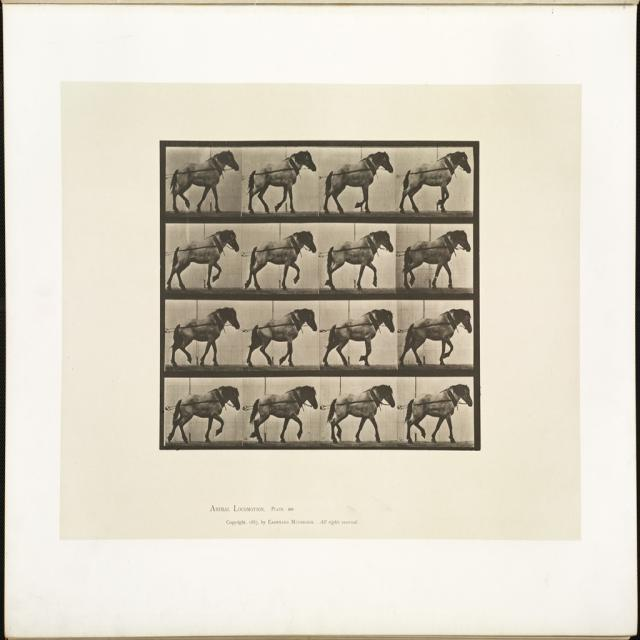Horse: (168, 149, 239, 213), (246, 150, 317, 214), (246, 230, 317, 294), (323, 150, 393, 214), (401, 306, 473, 368), (401, 153, 471, 215), (171, 307, 242, 368), (168, 385, 242, 443), (325, 228, 394, 290), (247, 308, 318, 368), (168, 231, 242, 288), (402, 385, 472, 445), (326, 310, 396, 368), (250, 387, 317, 445), (404, 230, 472, 286), (329, 386, 394, 441)
